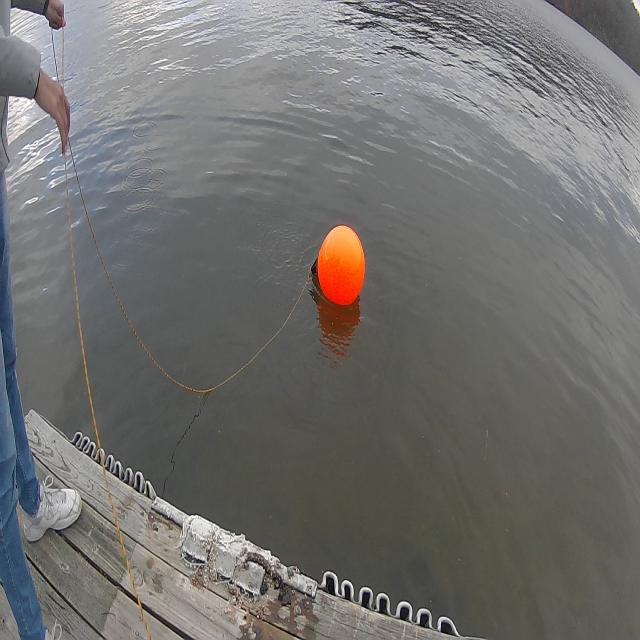Buoy: (311, 219, 368, 316)
